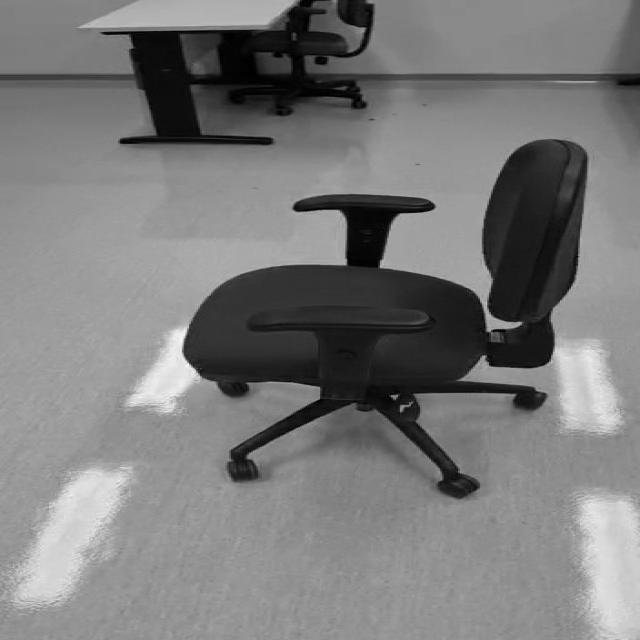chair: (183, 138, 590, 500)
